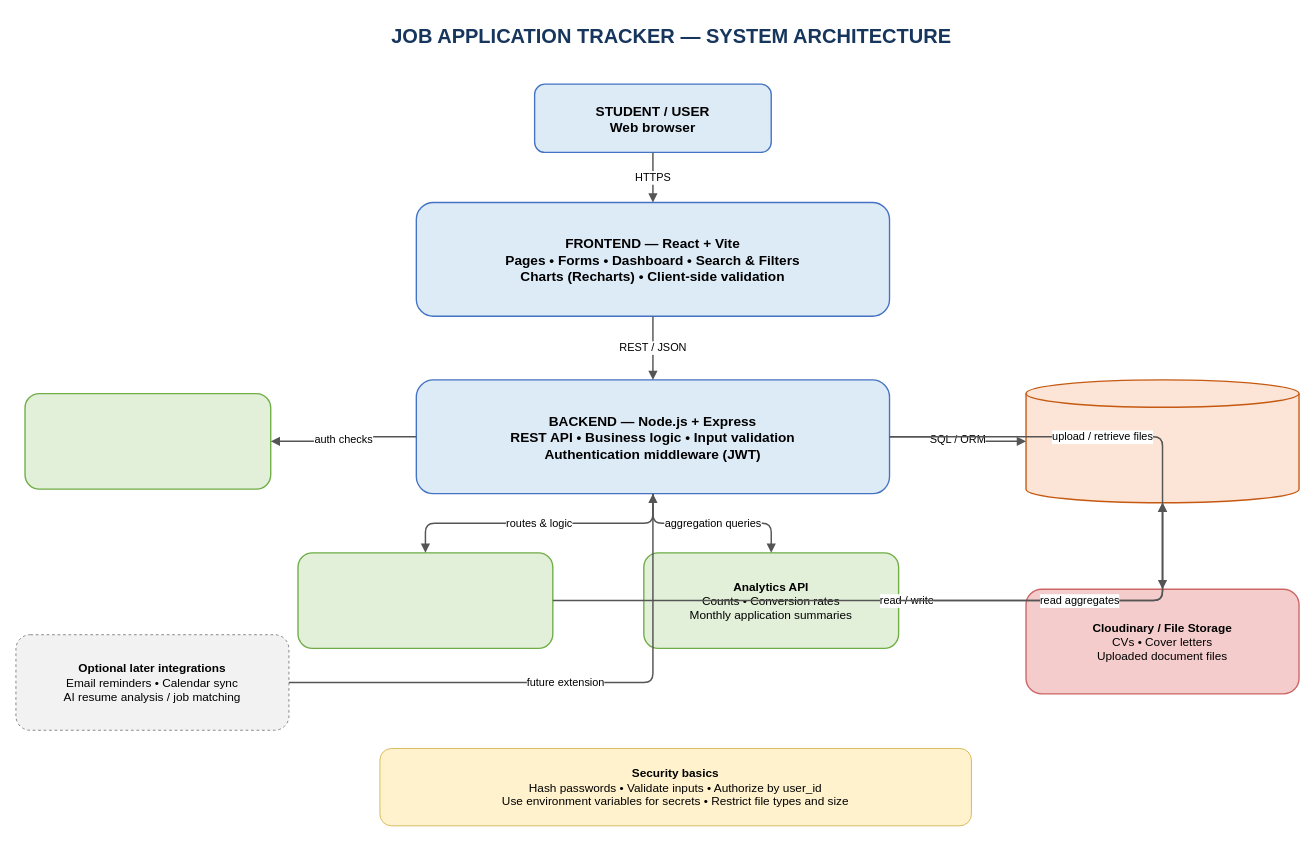
This 1316x842 diagram has some shape labels left out. The box of each missing label's shape, as (x1, y1, x2, y2) in pixels:
Application API CRUD applications Status & interview management: (297, 552, 553, 649)
Authentication Register / Login JWT token validation: (24, 392, 271, 489)
PostgreSQL Users • Applications Interviews • Documents metadata: (1025, 379, 1299, 503)
